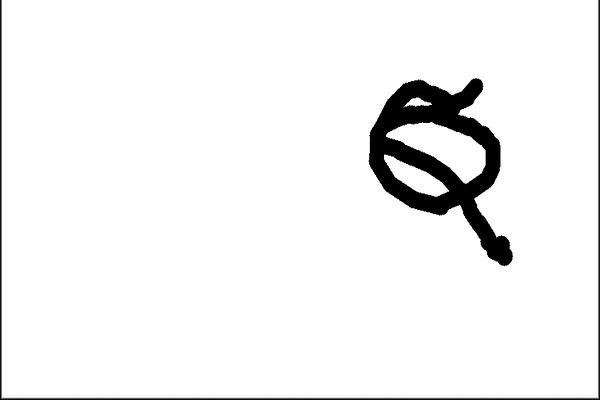Q: (356, 68, 523, 273)
